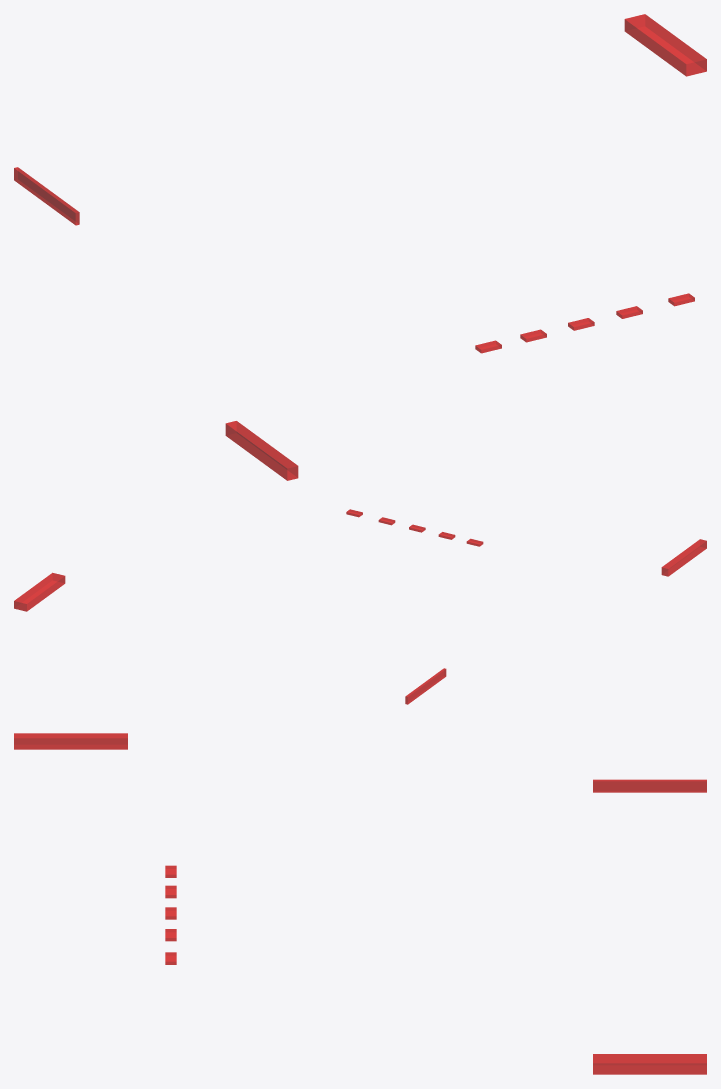
File: Track1_Stadium_s.fbx
3 views of the same model, one above another, from view 1: azimuth 30°, elevation 25°; view 2: azimuth 150°, elevation 25°; view 3: azimuth 270°, elevation 25° (orthographic). The views are drawn at different scales.
Parts seen in each view (by area): view 1: polySurface1; view 2: polySurface1; view 3: polySurface1.
Part boxes in pixels (x1=…): polySurface1: x1=14, y1=14, x2=706, y2=480; polySurface1: x1=14, y1=509, x2=706, y2=704; polySurface1: x1=14, y1=733, x2=706, y2=1074.
Size of the model in its own units: 9040 by 146 by 8028.
